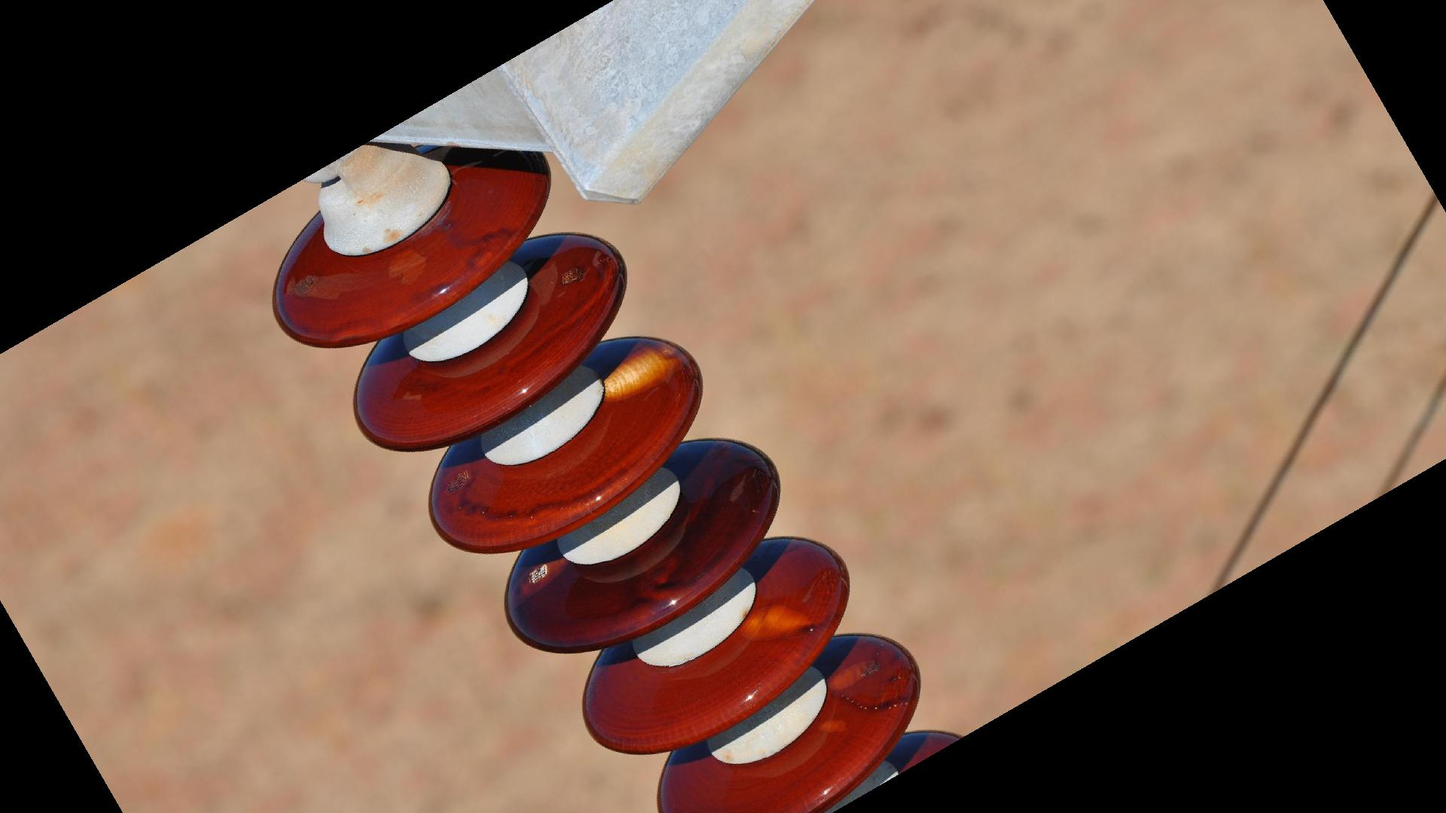insulator: (266, 144, 973, 813)
insulator_flashover: (601, 336, 679, 401)
